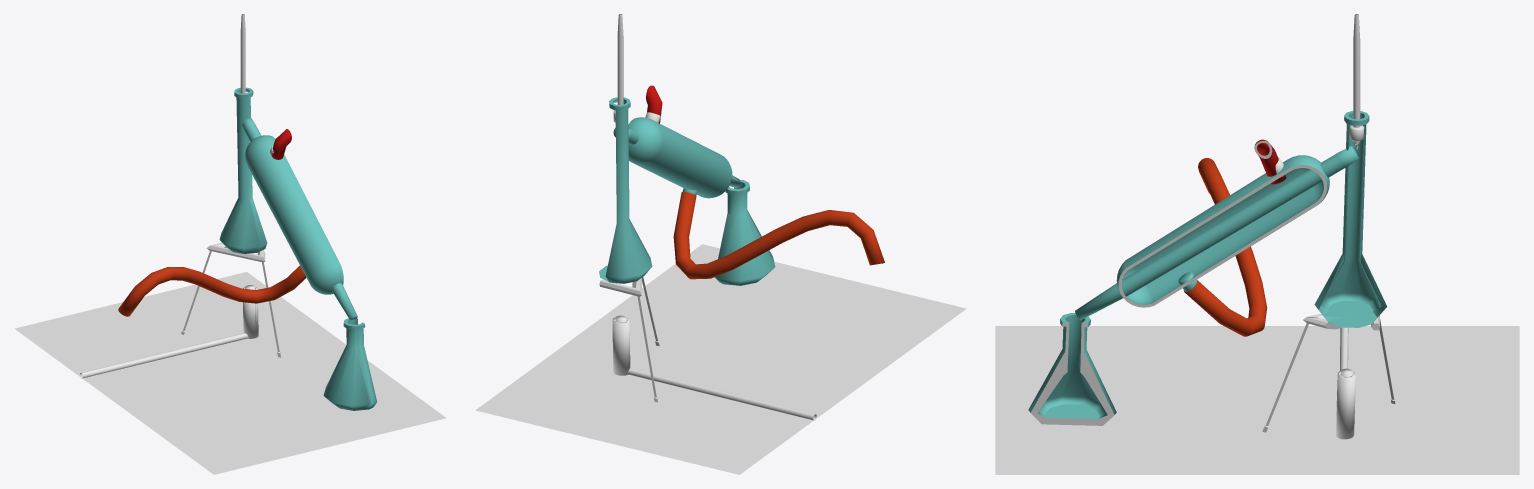
The model's file is Distrillation method_Raghav Naik Dessai.gltf.
3 views of the same model, side by side, from view 1: azimuth 30°, elevation 25°; view 2: azimuth 150°, elevation 25°; view 3: azimuth 270°, elevation 25° (orthographic). The views are drawn at different scales.
Parts seen in each view (by area): view 1: Plane, MODEL.001, Cylinder; view 2: Plane, MODEL.001, Cylinder; view 3: Plane, MODEL.001, Cylinder.
Boxes of the visible parts, bbox=[...] form: Plane: bbox=[14, 272, 446, 474]; MODEL.001: bbox=[80, 87, 376, 410]; Cylinder: bbox=[240, 14, 245, 93]; Plane: bbox=[475, 244, 966, 474]; MODEL.001: bbox=[599, 85, 884, 420]; Cylinder: bbox=[617, 14, 623, 104]; Plane: bbox=[995, 326, 1519, 474]; MODEL.001: bbox=[1028, 111, 1395, 439]; Cylinder: bbox=[1353, 14, 1360, 149].
Size of the model in its own units: 0.5109 by 0.6408 by 0.7256.
